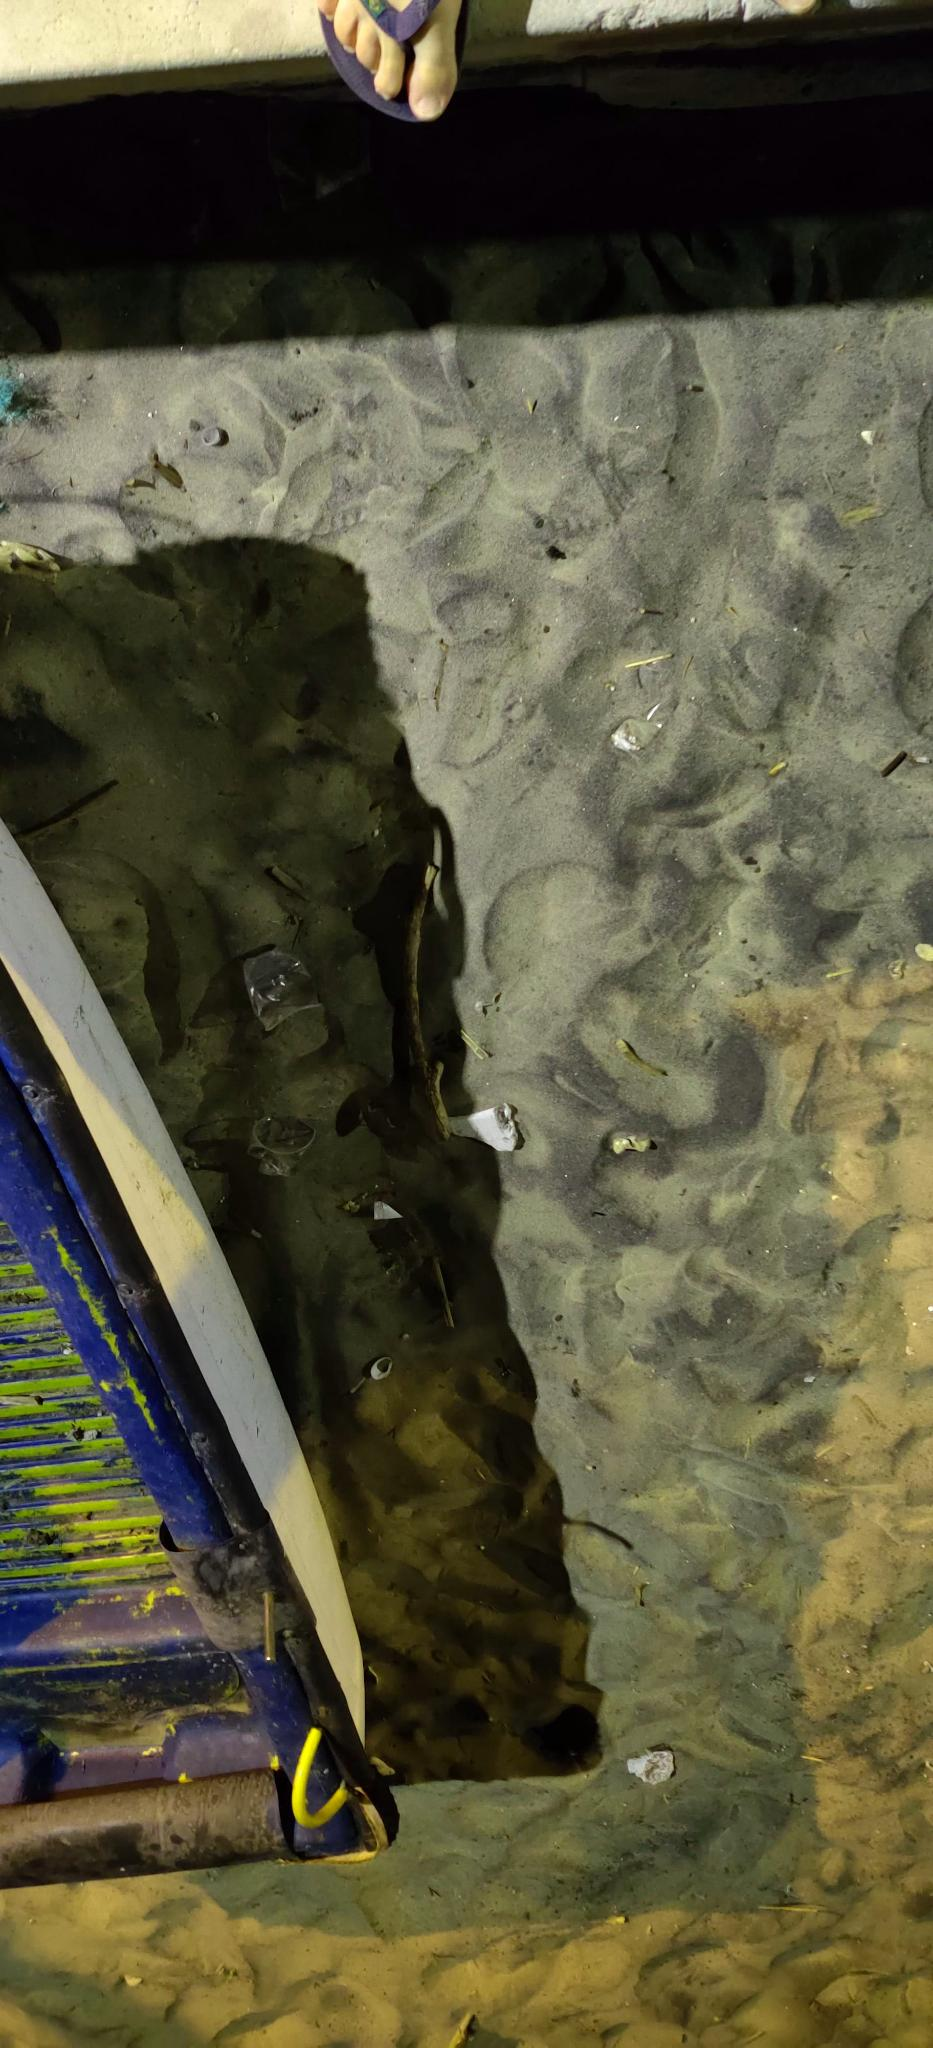Plastic: (226, 939, 335, 1037), (239, 1108, 327, 1185)
